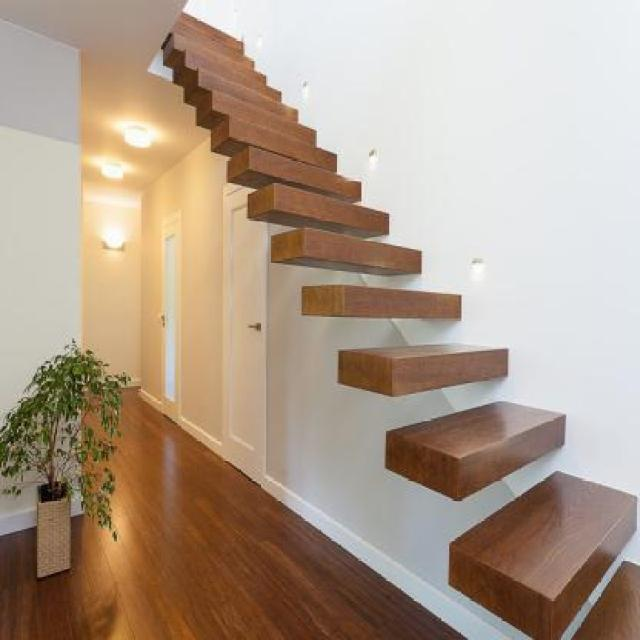stair: (137, 8, 638, 640)
